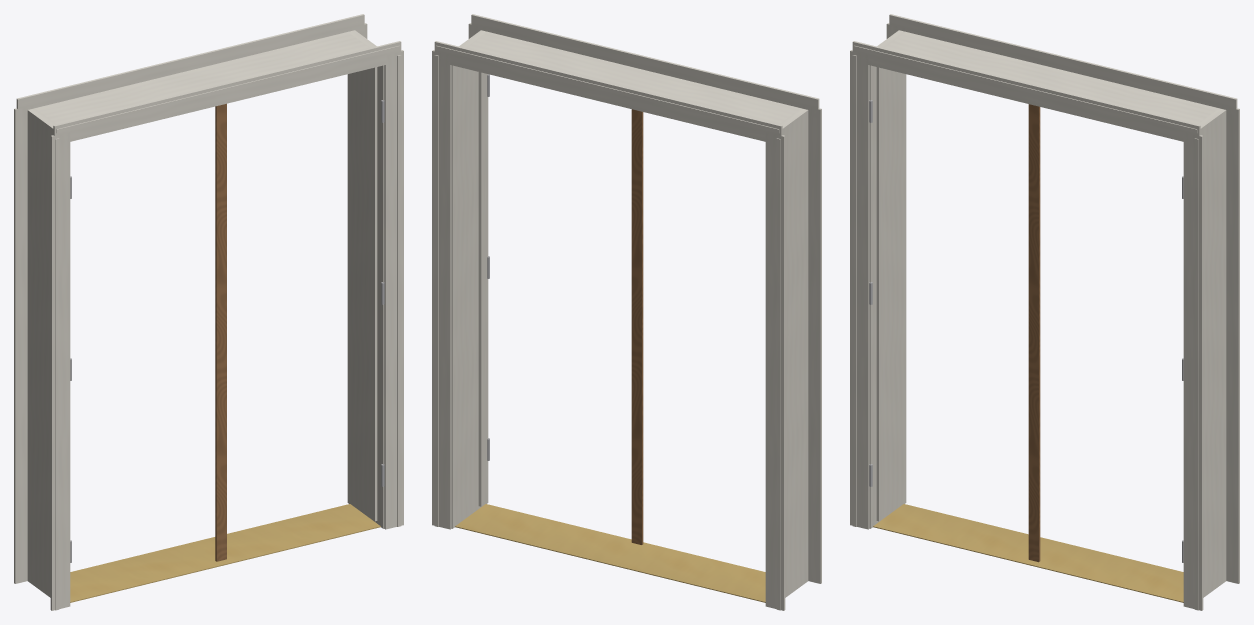
The model's file is frame_latch.glb.
3 renders of one model, left to right at view 1: azimuth 30°, elevation 25°; view 2: azimuth 150°, elevation 25°; view 3: azimuth 330°, elevation 25°, orthographic.
Visible parts, largest first — view 1: frame_latch; view 2: frame_latch; view 3: frame_latch.
Boxes of the visible parts, x1,y1,x2,y2 form: frame_latch: [14, 14, 403, 610]; frame_latch: [432, 14, 821, 610]; frame_latch: [850, 14, 1239, 610].
Bounding box in the file's own units: 1.72 × 2.26 × 0.33.
4 materials, 3 textured.
